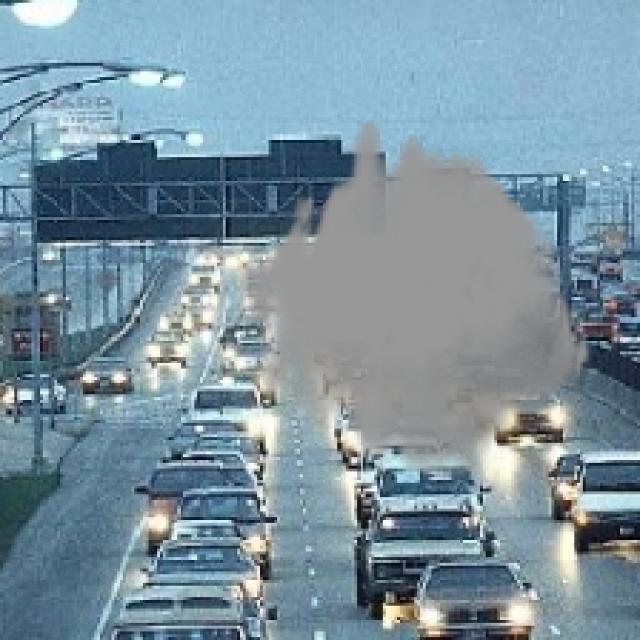Smoke: (239, 123, 592, 480)
